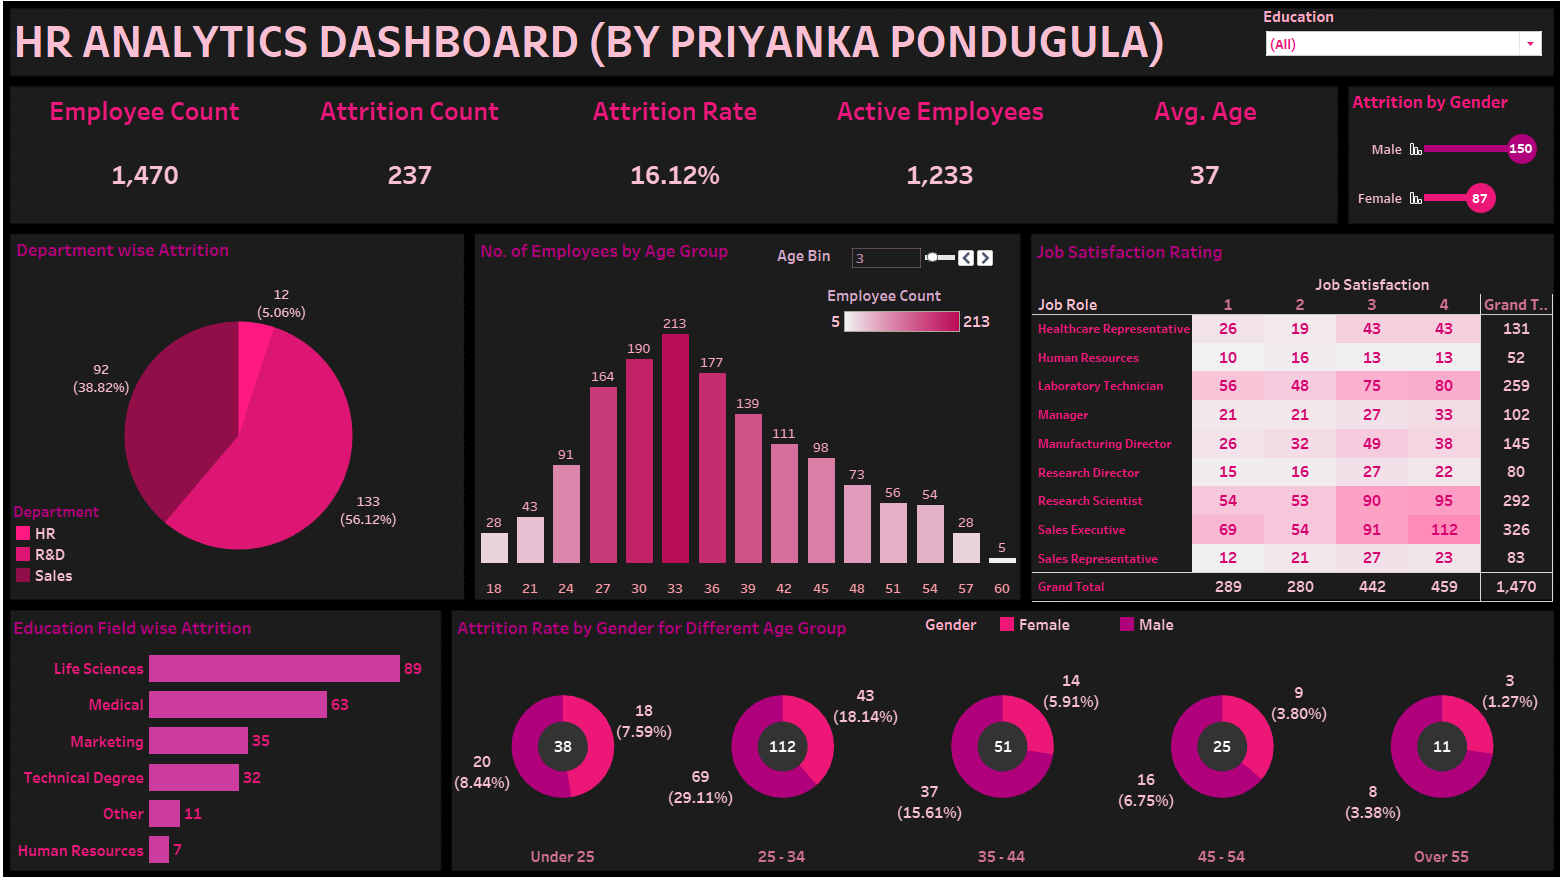

This screenshot's page, from the dashboard's own definition file:
{"tool":"tableau","page":{"name":"HR ANALYTICS DASHBOARD","canvas":[1600,900],"ordinal":0},"visuals":[{"type":"image","param":"Image/HR BG.png","box":[8,8,1584,884]},{"type":"text","box":[28,17,1219,67]},{"type":"filter","title":"KPI","param":"[federated.1o25pms09xkq7e1dxn74e08rmq37].[none:Education:nk]","box":[1281,17,282,68]},{"type":"worksheet","title":"Attrition by Gender","mark":"Automatic","rows":["Gender"],"cols":["Calculation_1629458641430192128","Calculation_1629458641430192128"],"box":[1366,97,206,136]},{"type":"worksheet","title":"KPI","mark":"Automatic","box":[30,98,1326,134]},{"type":"worksheet","title":"Department wise Attrition","mark":"Pie","box":[30,244,453,366]},{"type":"worksheet","title":"No. of Employees by Age Group","mark":"Automatic","rows":["Employee Count"],"cols":["Age (bin)"],"box":[494,245,545,364]},{"type":"worksheet","title":"Job Satisfaction Rating","mark":"Square","rows":["Job Role"],"cols":["Job Satisfaction"],"box":[1050,246,521,367]},{"type":"parameter","param":"[Parameters].[Parameter 1]","box":[794.9,255.9,218.7,33.7]},{"type":"legend","title":"No. of Employees by Age Group","param":"[federated.1o25pms09xkq7e1dxn74e08rmq37].[sum:Employee Count:qk]","box":[844.6,296.3,168.1,74.1]},{"type":"legend","title":"Department wise Attrition","param":"[federated.1o25pms09xkq7e1dxn74e08rmq37].[none:Department:nk]","box":[31,512,109,95]},{"type":"worksheet","title":"Education Field wise Attrition","mark":"Automatic","rows":["Education Field"],"cols":["Calculation_1629458641430192128"],"box":[27,622,431,257]},{"type":"worksheet","title":"Attrition Rate by Gender for Different Age Group","mark":"Pie","rows":["Calculation_1629458641471893508","Calculation_1629458641471893508"],"cols":["CF_age band"],"box":[471,622,1099,257]},{"type":"legend","title":"Attrition Rate by Gender for Different Age Group","param":"[federated.1o25pms09xkq7e1dxn74e08rmq37].[none:Gender:nk]","box":[942.8,625.1,333.2,35.9]}]}

Visuals, with their boxes in screenshot pixels (x1, y1, x2, y2), scaled from the page's 1600x900 canvas onto the 1564x883 screenshot:
image: 8:8:1556:875
text: 27:17:1219:82
"KPI" filter: 1252:17:1528:83
"Attrition by Gender" worksheet: 1335:95:1537:229
"KPI" worksheet: 29:96:1325:228
"Department wise Attrition" worksheet (Pie marks): 29:239:472:598
"No. of Employees by Age Group" worksheet: 483:240:1016:597
"Job Satisfaction Rating" worksheet (Square marks): 1026:241:1536:601
parameter: 777:251:991:284
"No. of Employees by Age Group" legend: 826:291:990:363
"Department wise Attrition" legend: 30:502:137:596
"Education Field wise Attrition" worksheet: 26:610:448:862
"Attrition Rate by Gender for Different Age Group" worksheet (Pie marks): 460:610:1535:862
"Attrition Rate by Gender for Different Age Group" legend: 922:613:1247:649
